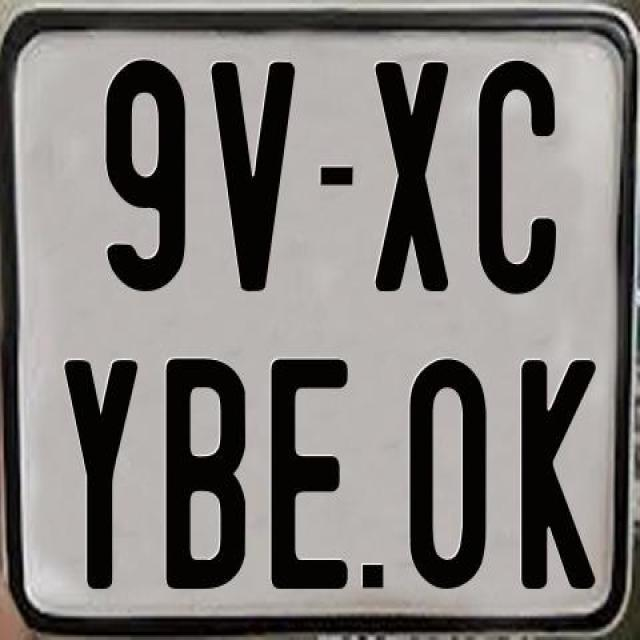0: (405, 356, 487, 594)
9: (102, 59, 186, 298)
B: (166, 357, 250, 587)
C: (476, 59, 562, 294)
E: (270, 355, 350, 586)
K: (518, 357, 600, 592)
V: (208, 61, 292, 290)
X: (374, 61, 446, 296)
Y: (64, 356, 140, 594)
